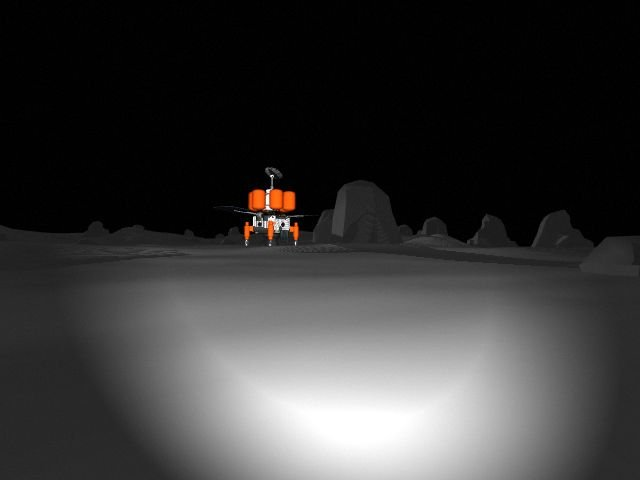homebase: (215, 163, 322, 250)
